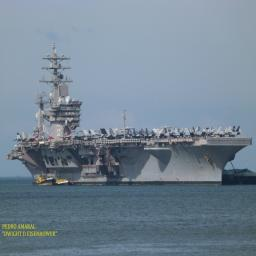Portanaves: (5, 42, 254, 188)
